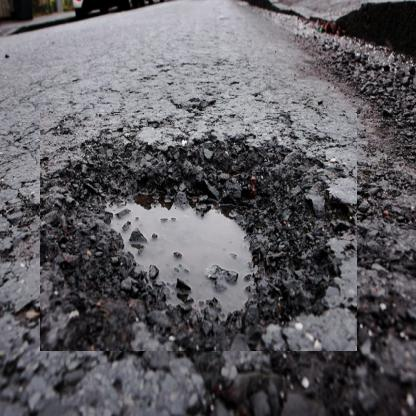pothole: (39, 113, 357, 352)
